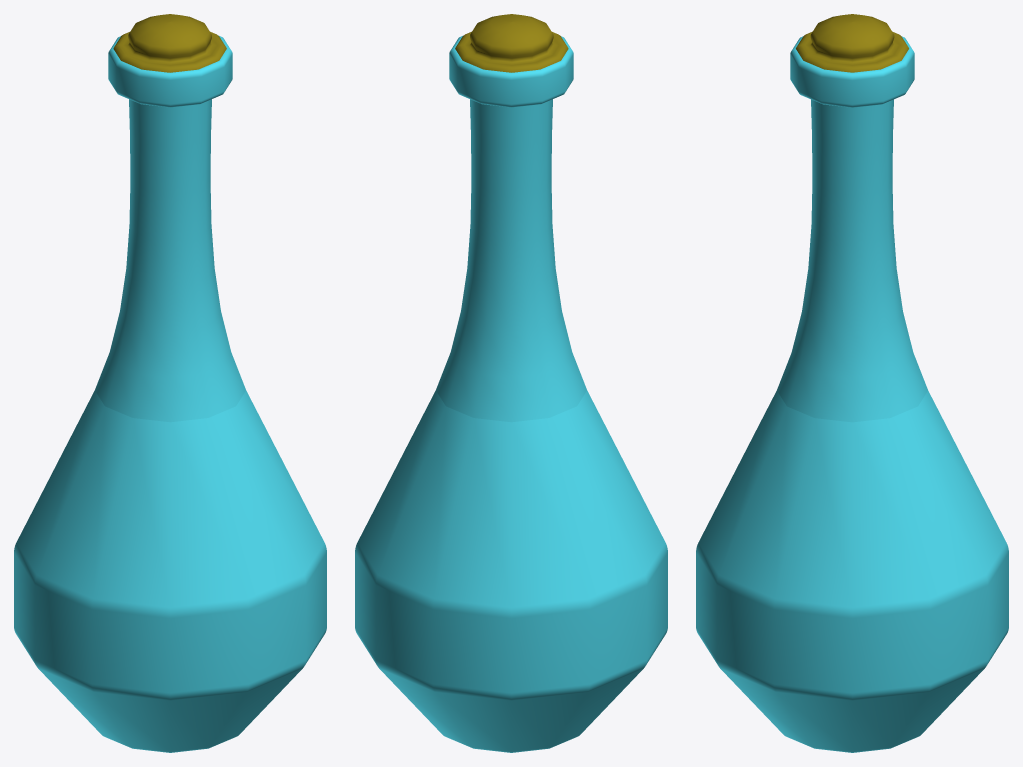
The model's file is potion07.FBX.
3 views of the same model, side by side, from view 1: azimuth 30°, elevation 25°; view 2: azimuth 150°, elevation 25°; view 3: azimuth 270°, elevation 25° (orthographic).
Visible parts, largest first — view 1: potion_07glass; view 2: potion_07glass; view 3: potion_07glass.
Part boxes in pixels (x1,y1,x2,y2): potion_07glass: (14,14,326,752); potion_07glass: (355,14,667,752); potion_07glass: (696,14,1008,752).
Bounding box in the file's own units: 21.52 × 53.15 × 21.52.
